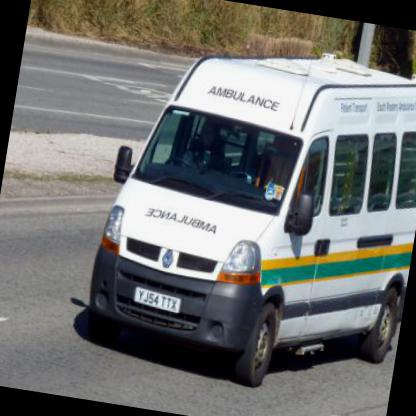truck: (79, 17, 415, 410)
